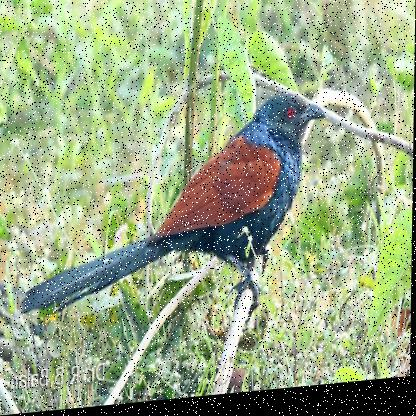Burung: (22, 95, 328, 344)
